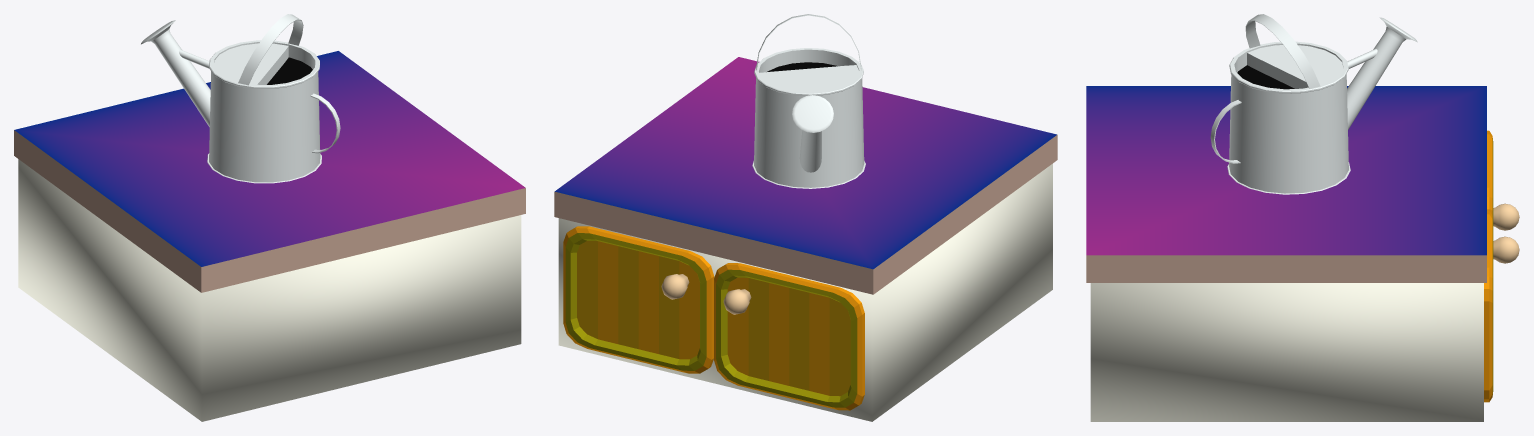
Rendered from WateringCanProvider.fbx.
3 views of the same model, side by side, from view 1: azimuth 30°, elevation 25°; view 2: azimuth 150°, elevation 25°; view 3: azimuth 270°, elevation 25° (orthographic). The views are drawn at different scales.
Parts seen in each view (by area): view 1: Body, Top, Barrel.002, Top Rim, Spout.002, TopHandle.002; view 2: Top, Doors, Body, Top Rim, Barrel.002, Spout.002, Handles; view 3: Top, Body, Barrel.002, Top Rim, Doors, Spout.002, TopHandle.002, Handles, BackHandle.002.
Boxes of the visible parts, x1=… form: Body: x1=18, y1=159, x2=521, y2=421; Top: x1=14, y1=51, x2=525, y2=266; Barrel.002: x1=207, y1=40, x2=321, y2=183; Top Rim: x1=14, y1=130, x2=525, y2=292; Spout.002: x1=141, y1=20, x2=210, y2=126; TopHandle.002: x1=238, y1=14, x2=303, y2=85; Top: x1=555, y1=57, x2=1056, y2=269; Doors: x1=563, y1=226, x2=864, y2=410; Body: x1=558, y1=163, x2=1052, y2=421; Top Rim: x1=554, y1=135, x2=1057, y2=294; Barrel.002: x1=752, y1=48, x2=865, y2=188; Spout.002: x1=792, y1=95, x2=833, y2=172; Handles: x1=661, y1=274, x2=751, y2=314; Top: x1=1086, y1=86, x2=1486, y2=255; Body: x1=1090, y1=283, x2=1483, y2=421; Barrel.002: x1=1227, y1=41, x2=1350, y2=194; Top Rim: x1=1086, y1=255, x2=1486, y2=282; Doors: x1=1484, y1=130, x2=1493, y2=402; Spout.002: x1=1347, y1=17, x2=1417, y2=129; TopHandle.002: x1=1245, y1=14, x2=1320, y2=88; Handles: x1=1493, y1=203, x2=1519, y2=263; BackHandle.002: x1=1210, y1=100, x2=1241, y2=163.
Bounding box in the file's own units: 100 × 88.88 × 108.
